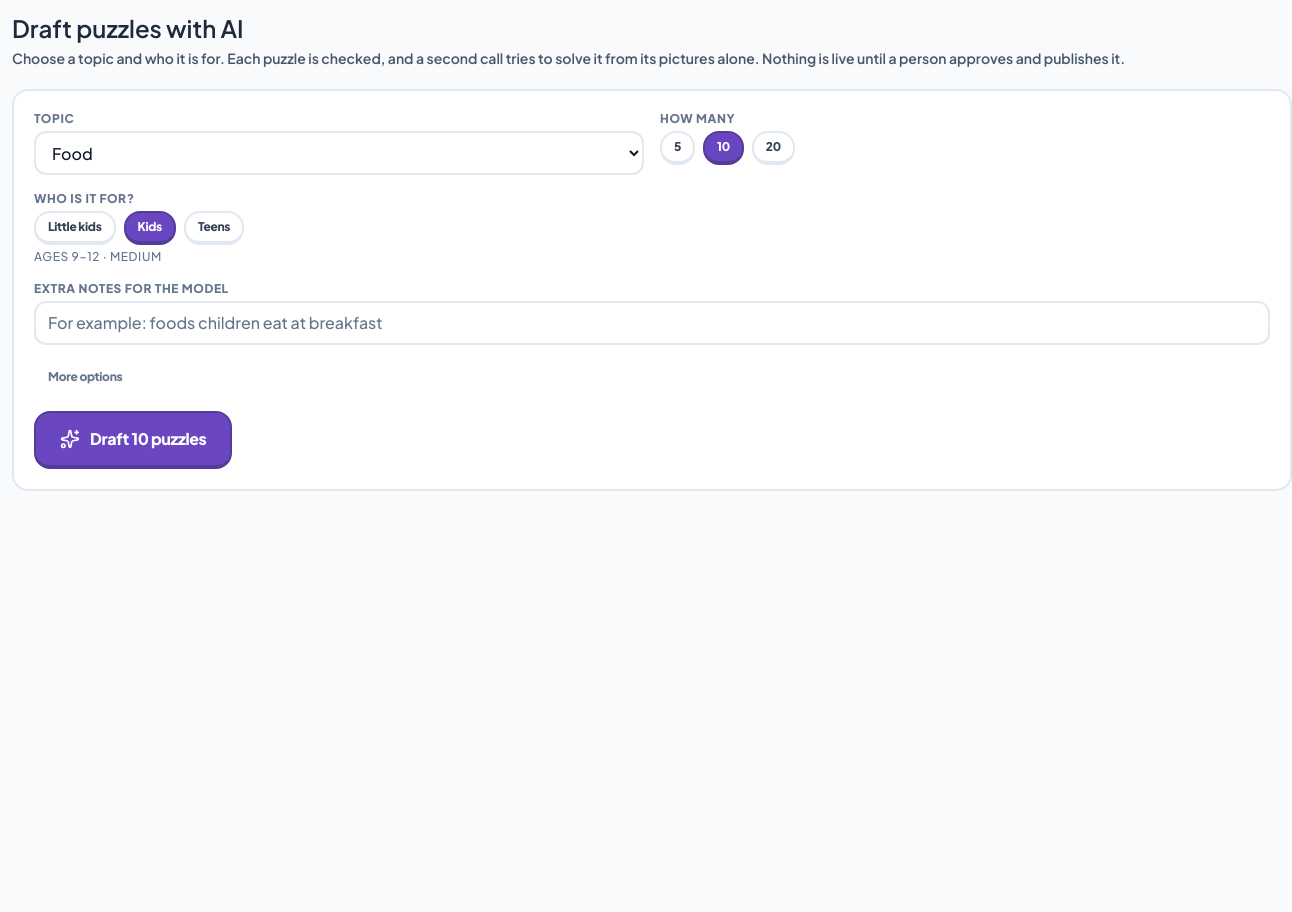
Test: the Generate tab › names the drawings the model wished for, so an artist can be asked
Click the button "Draft 10 puzzles" at (133, 440), box [34,411,232,469]
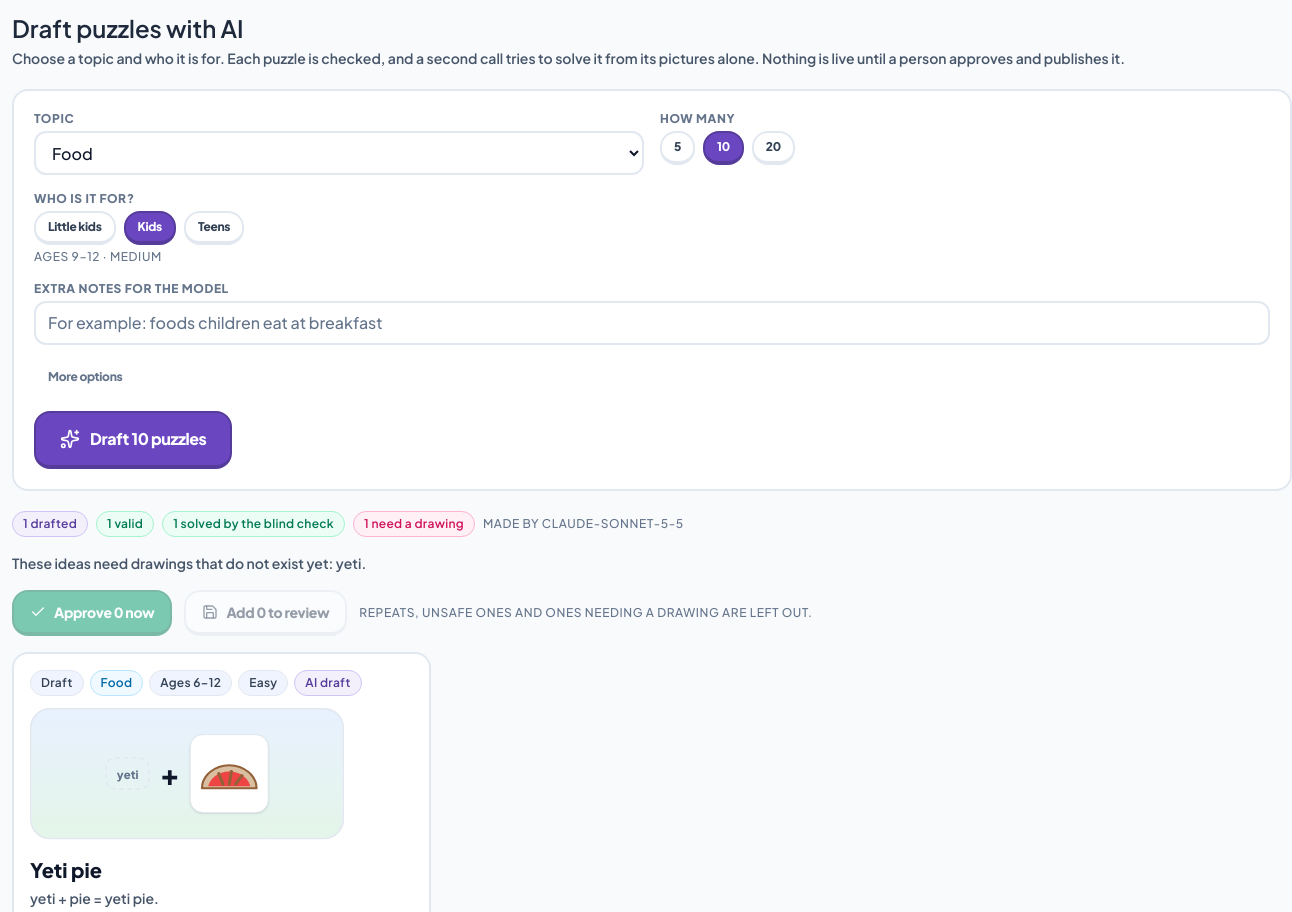
Result: the text "These ideas need drawings that do not exist yet: yeti." is shown at [12,554,366,572]
Result: the text "1 need a drawing" is shown at [353,511,475,537]
